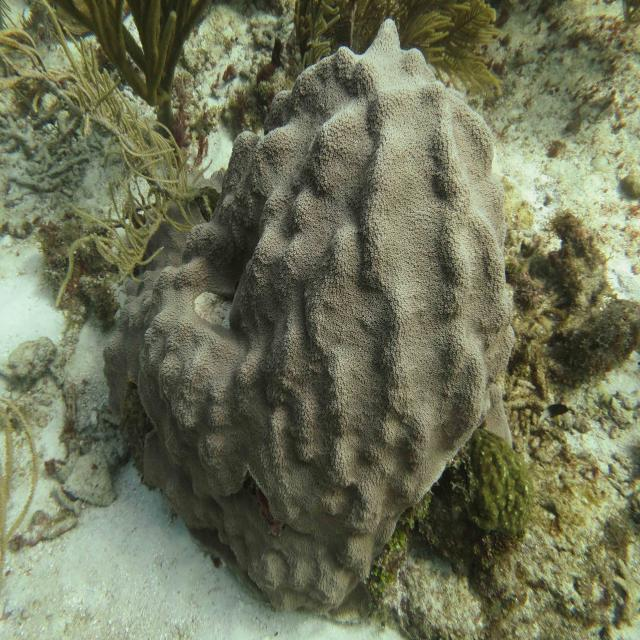Coral: (103, 15, 517, 613), (45, 0, 209, 139), (463, 428, 534, 538)
